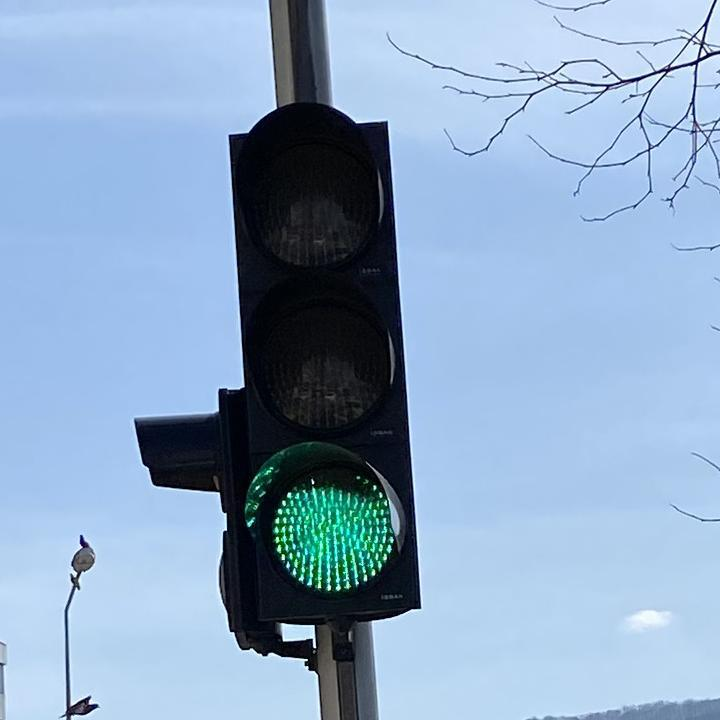green: (221, 110, 416, 632)
